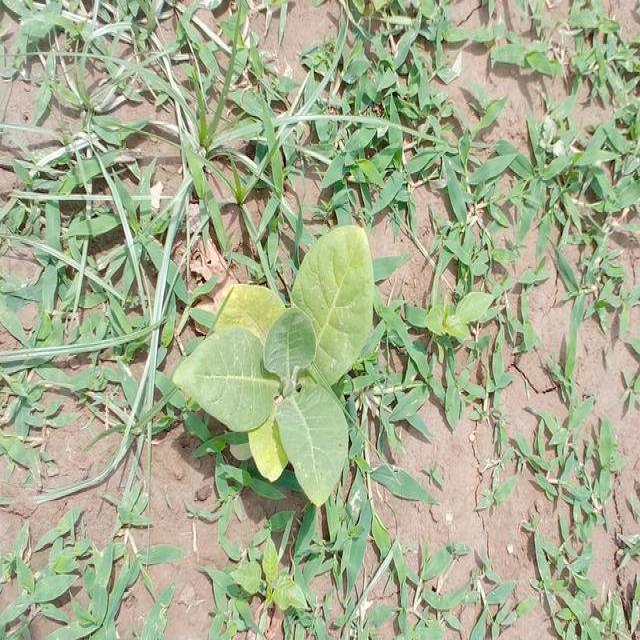crop: (181, 243, 391, 492)
